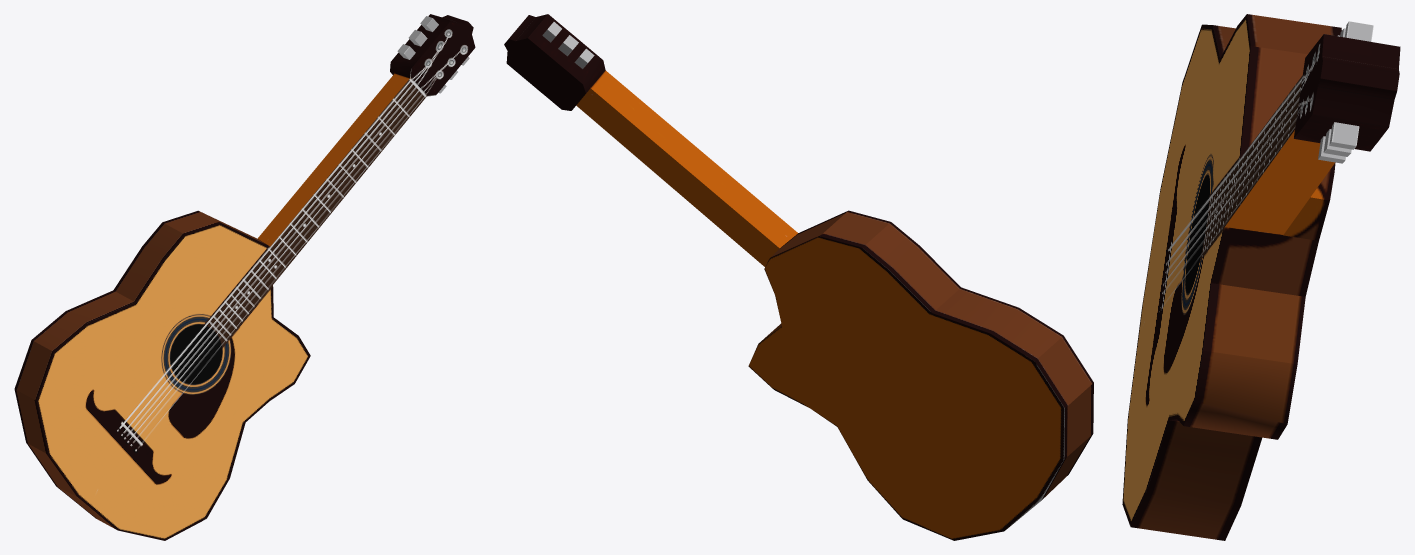
Rendered from guitarra3_000199.obj.
The picture shows the model from 3 angles, left to right: view 1: azimuth 30°, elevation 25°; view 2: azimuth 150°, elevation 25°; view 3: azimuth 270°, elevation 25°; orthographic projection. The views are drawn at different scales.
Parts seen in each view (by area): view 1: Guitarra_2:pPlane4; view 2: Guitarra_2:pPlane4; view 3: Guitarra_2:pPlane4.
Part boxes in pixels (left/top/right/bottom): Guitarra_2:pPlane4: left=14, top=14, right=475, bottom=540; Guitarra_2:pPlane4: left=504, top=14, right=1093, bottom=540; Guitarra_2:pPlane4: left=1122, top=14, right=1400, bottom=540.
Size of the model in its own units: 10.85 by 8.96 by 2.79.
